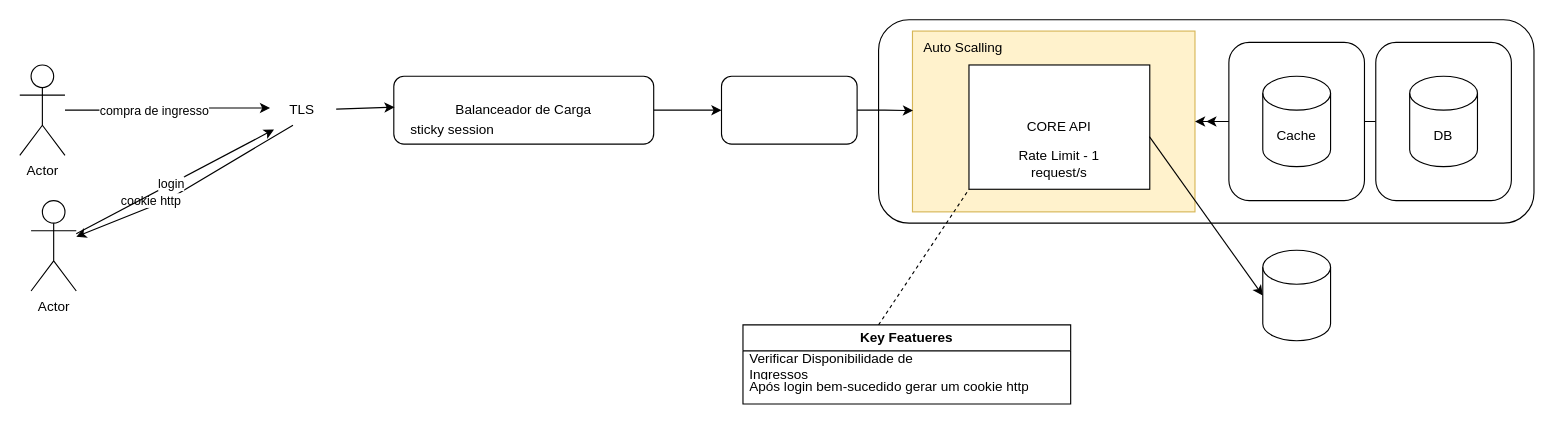
Some shapes in this 1554 by 424 pixel diagram are drawn without their labels. Here are the shapes that lost their labels. From the top down, the centre of each, then its label:
At [788,109]: "Firewalls".
At [1296,295]: "Arquivos Estáticos".
